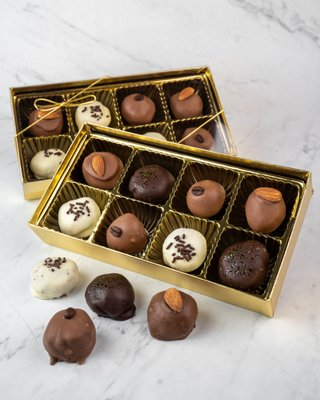salad: (146, 288, 198, 341), (30, 256, 80, 300), (162, 228, 208, 273), (57, 196, 101, 239), (128, 164, 176, 203), (106, 213, 148, 256)
